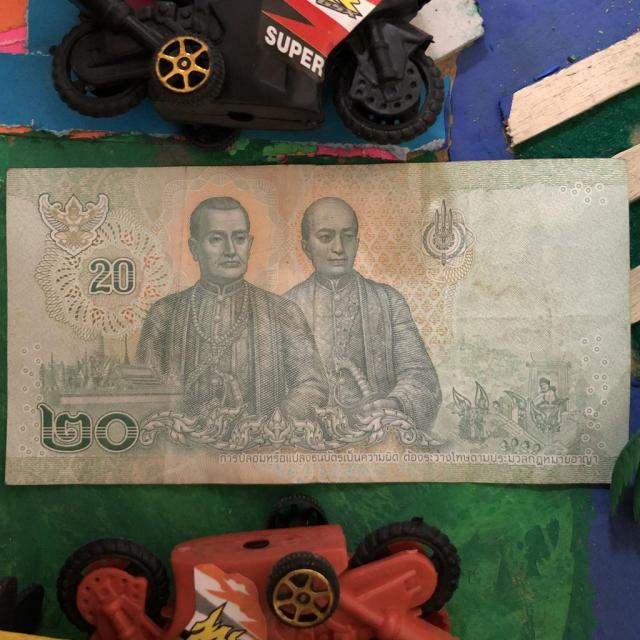THAI20: (5, 159, 630, 484)
